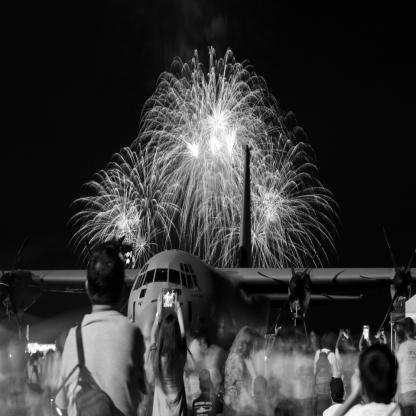C130: (2, 145, 416, 348)
